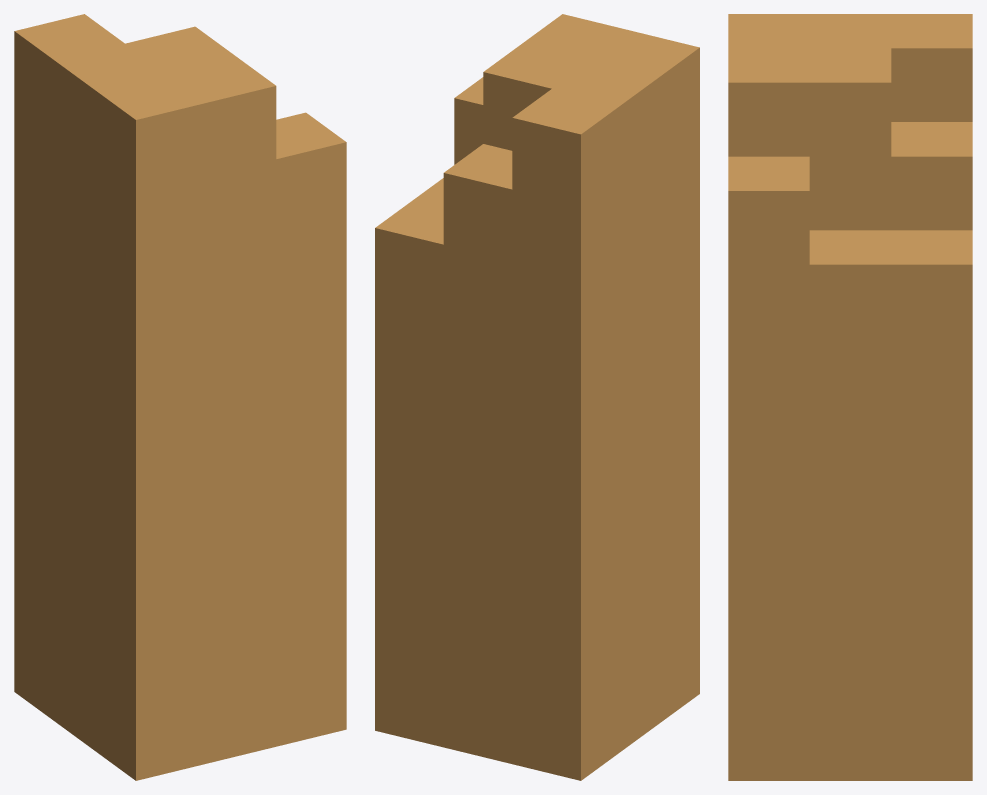
The model's file is dog__leg_fr.glb.
The picture shows the model from 3 angles, left to right: view 1: azimuth 30°, elevation 25°; view 2: azimuth 150°, elevation 25°; view 3: azimuth 270°, elevation 25°; orthographic projection. The views are drawn at different scales.
Visible parts, largest first — view 1: dog__leg_fr; view 2: dog__leg_fr; view 3: dog__leg_fr.
Part boxes in pixels (x1,y1,x2,y2): dog__leg_fr: (14,14,346,780); dog__leg_fr: (375,14,699,780); dog__leg_fr: (728,14,972,780).
Size of the model in its own units: 0.3 by 0.9 by 0.3.
1 material, 1 textured.
